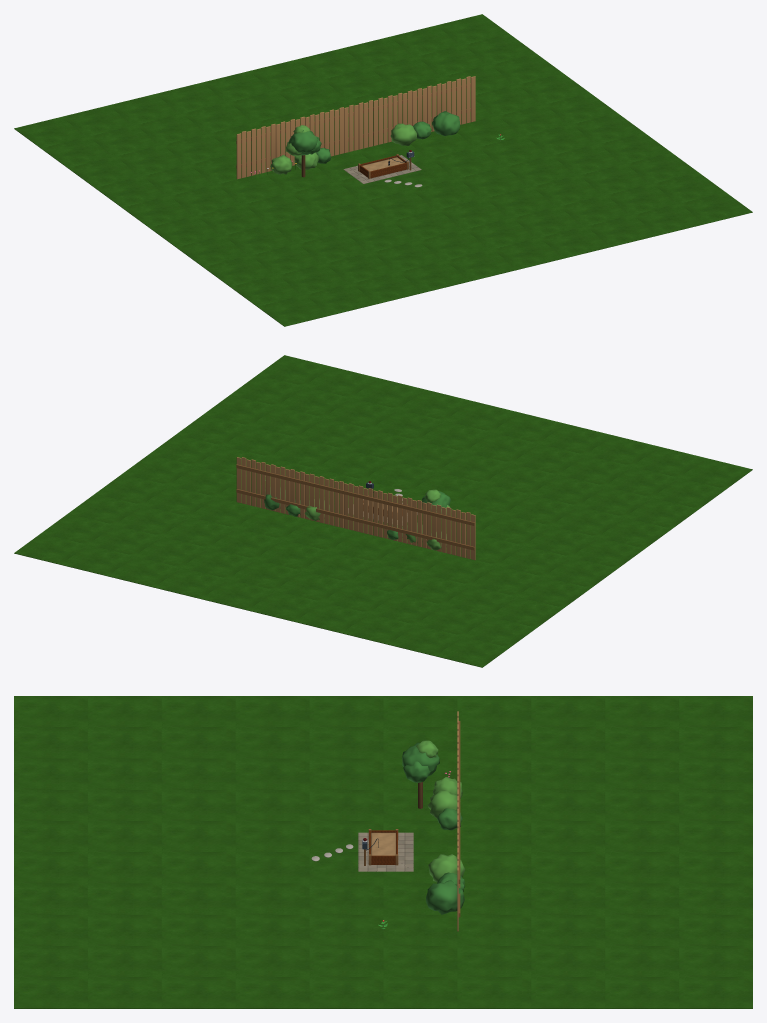
Rendered from plant-garden.glb.
The picture shows the model from 3 angles, top to bottom: view 1: azimuth 30°, elevation 25°; view 2: azimuth 150°, elevation 25°; view 3: azimuth 270°, elevation 25°; orthographic projection. The views are drawn at different scales.
Visible parts, largest first — view 1: Yard; view 2: Yard; view 3: Yard, Soil.
Part boxes in pixels (bbox=[...]): Yard: bbox=[14, 14, 752, 326]; Yard: bbox=[14, 355, 752, 667]; Yard: bbox=[14, 696, 752, 1008]; Soil: bbox=[371, 832, 395, 855].
Bounding box in the file's own units: 12 × 1.26 × 12.
Materials: 30 (3 with a texture image).
